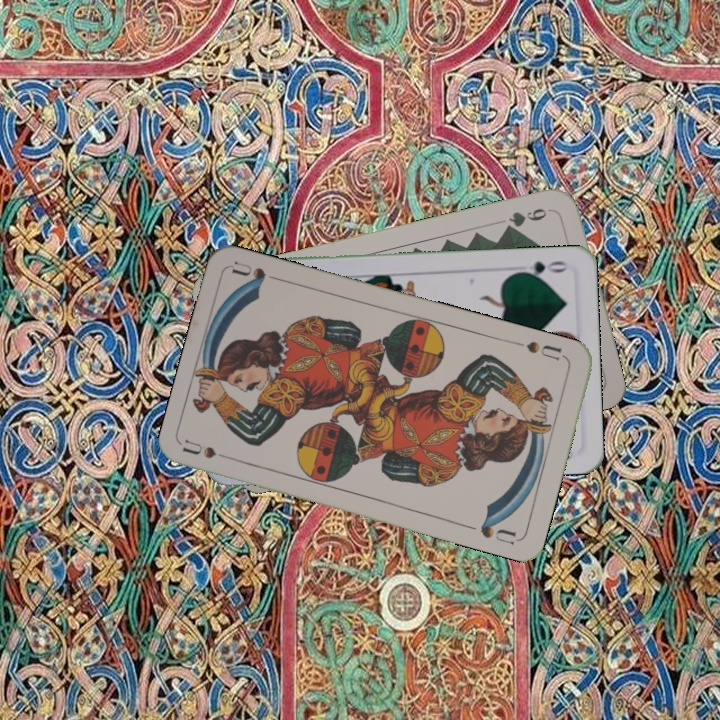G9: (500, 204, 556, 234)
GO: (512, 257, 570, 281)
SU: (180, 436, 240, 464), (511, 337, 569, 363)
